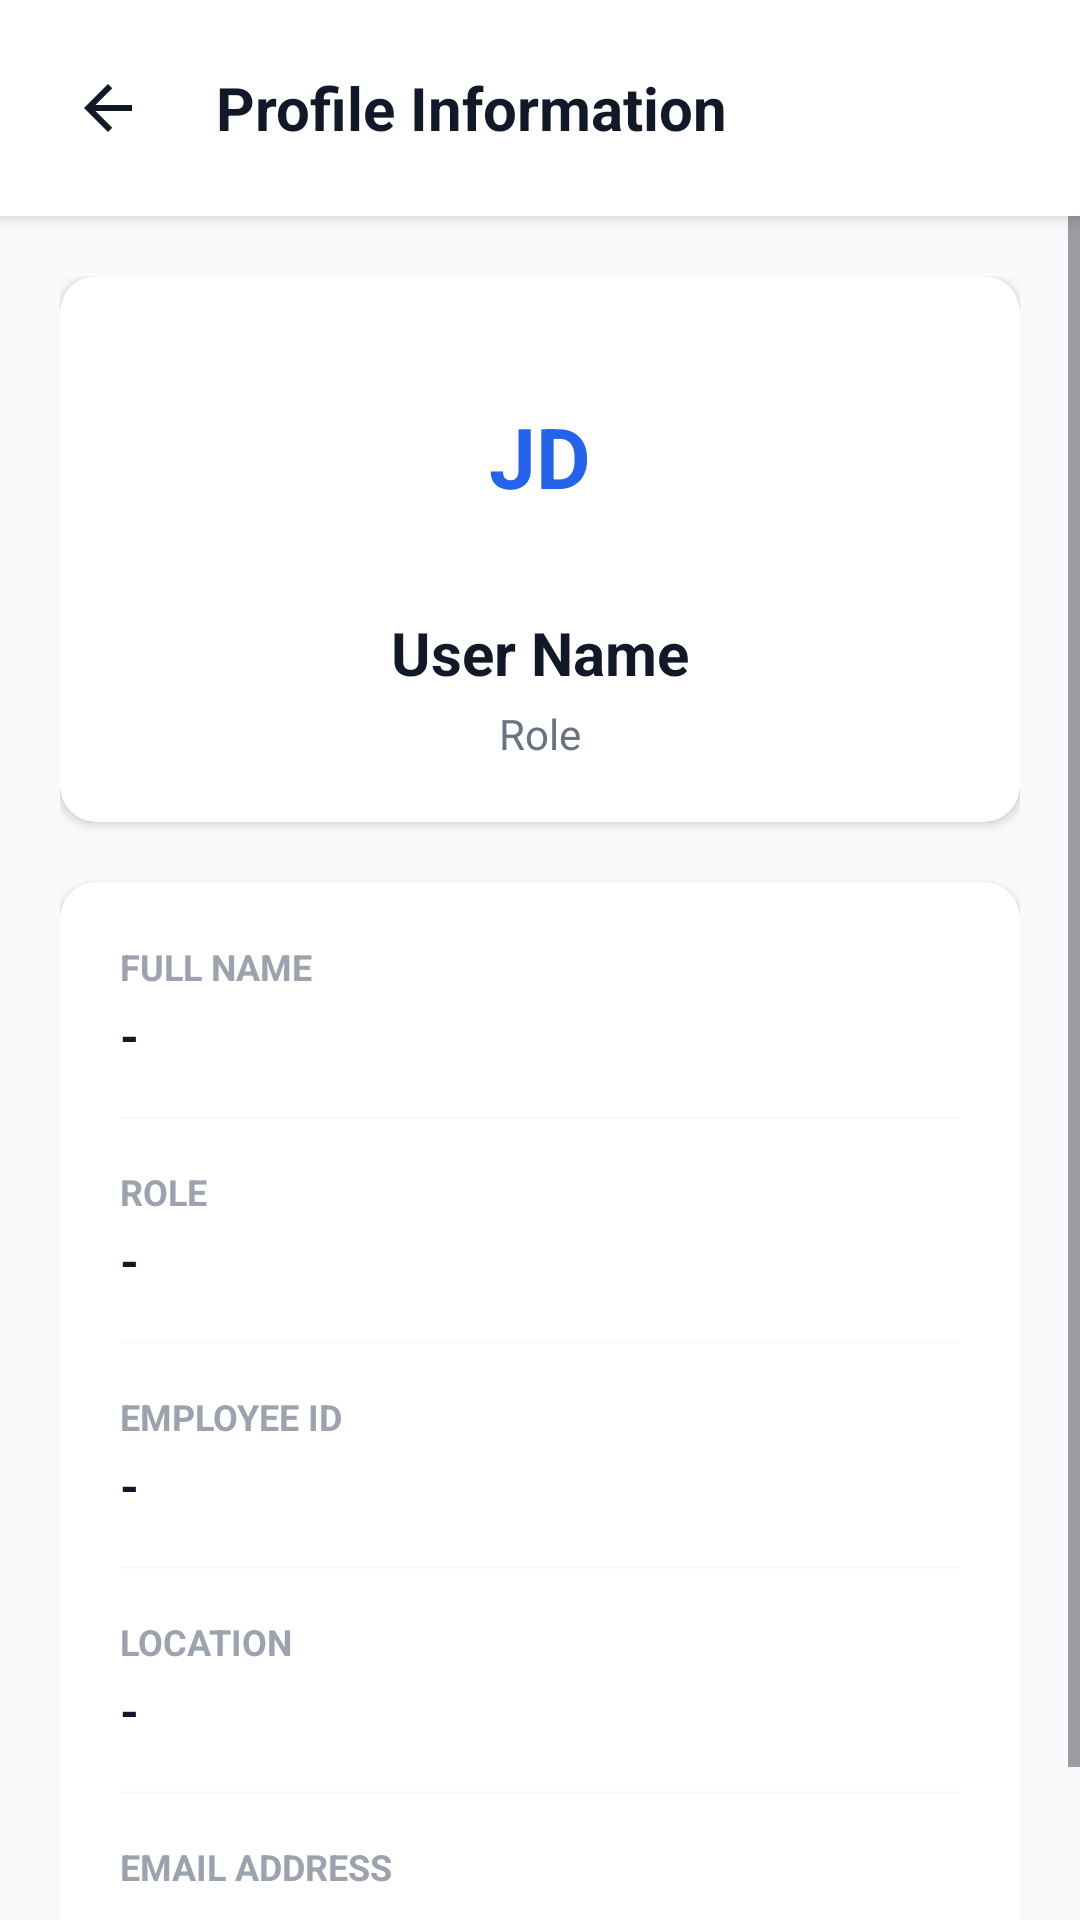

Where to tap for icons on this 1080×1920 app screen, as (x,y):
arrow back: (108,108)
